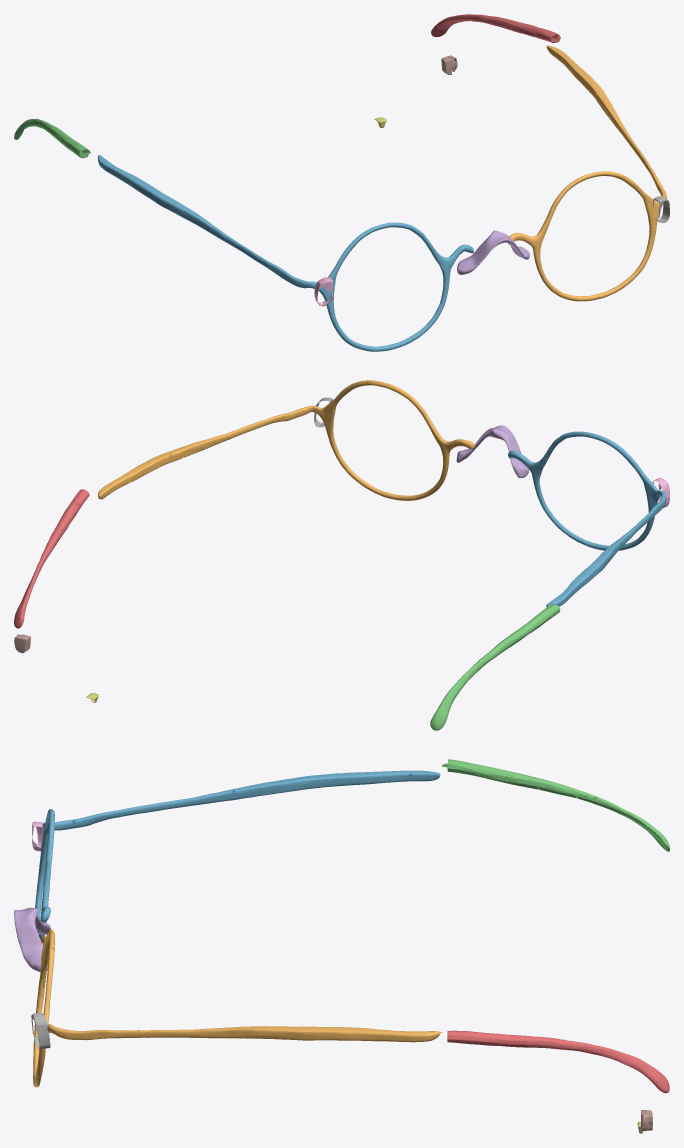
File: glasses.glb
The picture shows the model from 3 angles, top to bottom: view 1: azimuth 30°, elevation 25°; view 2: azimuth 150°, elevation 25°; view 3: azimuth 270°, elevation 25°; orthographic projection. The views are drawn at different scales.
Parts seen in each view (by area): view 1: Part 01, Part 02, Part 04, Part 05, Part 03; view 2: Part 02, Part 01, Part 03, Part 04, Part 05; view 3: Part 02, Part 01, Part 04, Part 03, Part 05.
Part boxes in pixels (box(x1,y1,x2,y2)): Part 01: box(97, 155, 473, 351); Part 02: box(508, 45, 666, 301); Part 04: box(431, 14, 560, 42); Part 05: box(457, 230, 529, 274); Part 03: box(14, 118, 90, 158); Part 02: box(98, 380, 474, 500); Part 01: box(508, 431, 666, 606); Part 03: box(430, 603, 560, 730); Part 04: box(14, 489, 89, 628); Part 05: box(456, 425, 529, 477); Part 02: box(33, 929, 440, 1087); Part 01: box(35, 770, 440, 944); Part 04: box(440, 1030, 669, 1093); Part 03: box(442, 759, 669, 851); Part 05: box(14, 907, 50, 971).
Size of the model in its own units: 0.9936 by 0.2898 by 0.9936.
